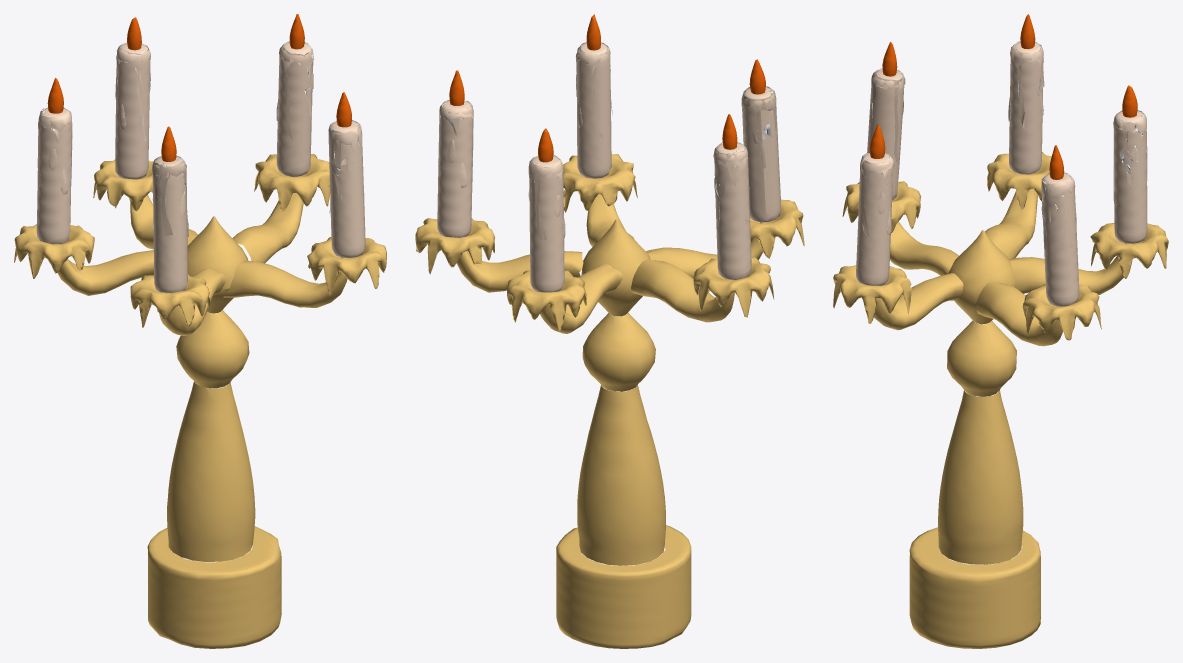
The picture shows the model from 3 angles, left to right: view 1: azimuth 30°, elevation 25°; view 2: azimuth 150°, elevation 25°; view 3: azimuth 270°, elevation 25°; orthographic projection. The views are drawn at different scales.
Parts seen in each view (by area): view 1: Obj_Avatar_Shape; view 2: Obj_Avatar_Shape; view 3: Obj_Avatar_Shape.
Part boxes in pixels (x1,y1,x2,y2): Obj_Avatar_Shape: (14,14,386,648); Obj_Avatar_Shape: (415,14,804,648); Obj_Avatar_Shape: (833,14,1168,648).
Size of the model in its own units: 0.4521 by 0.7352 by 0.4106.
